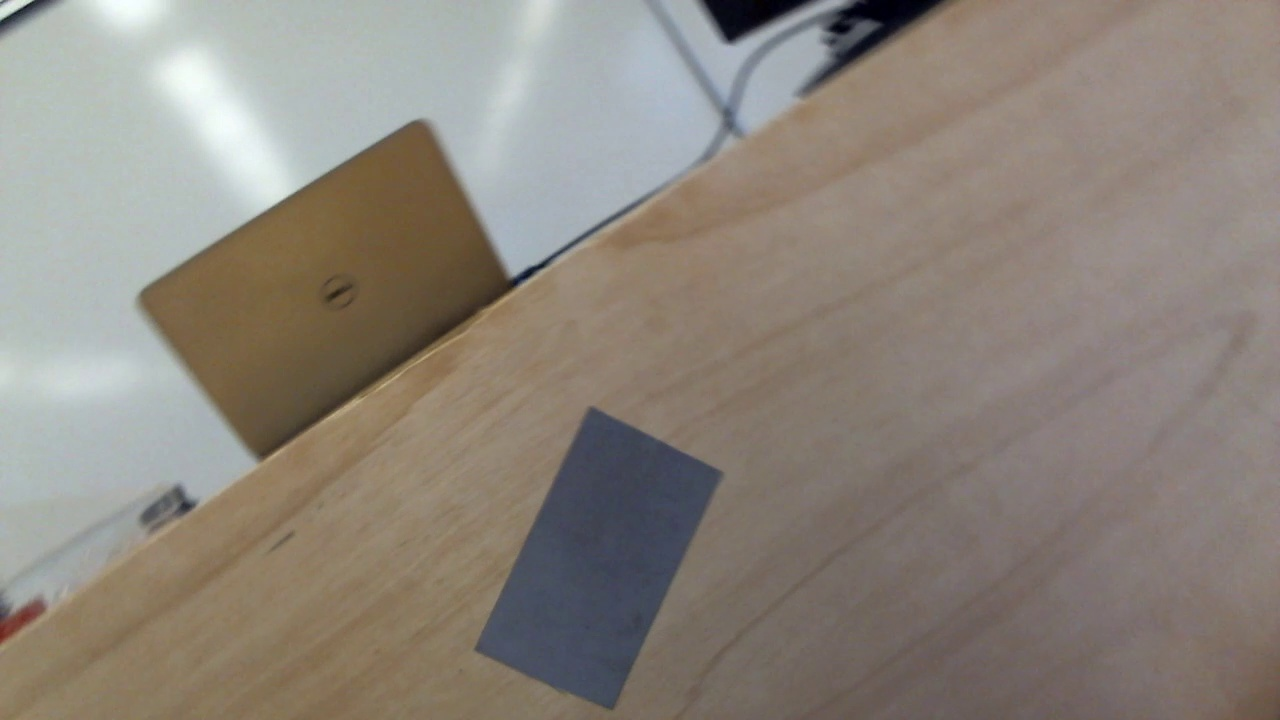Tape: (473, 408, 723, 709)
